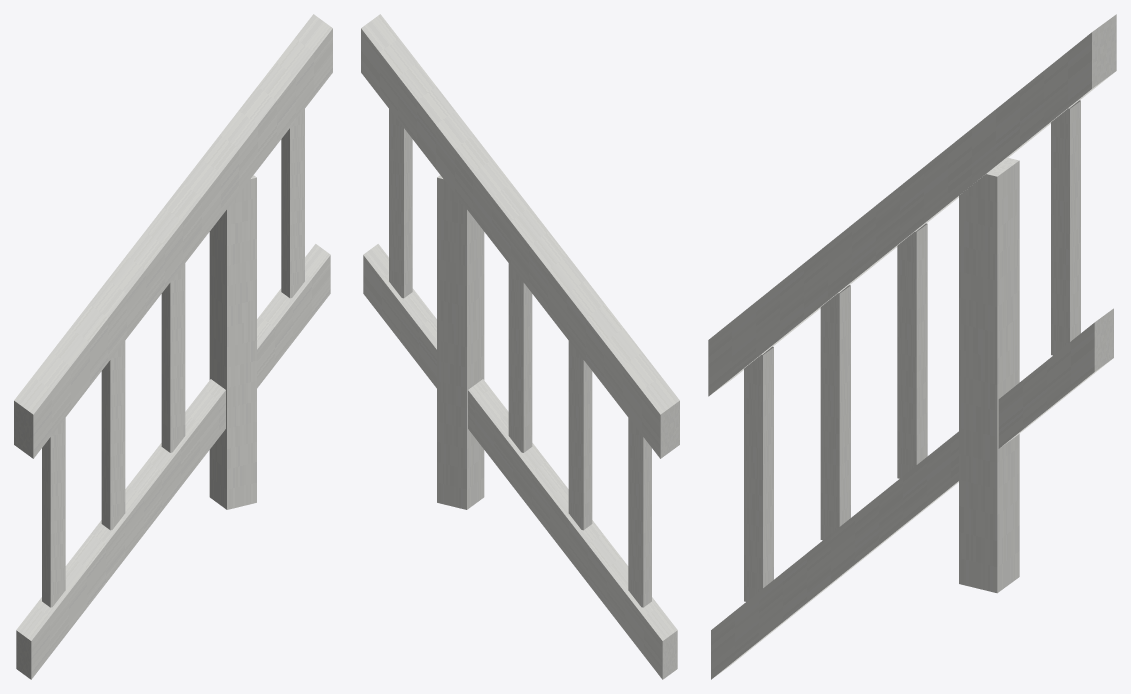
The model's file is mid_pos.obj.
3 renders of one model, left to right at view 1: azimuth 30°, elevation 25°; view 2: azimuth 150°, elevation 25°; view 3: azimuth 330°, elevation 25°, orthographic. The views are drawn at different scales.
Visible parts, largest first — view 1: railing_picket_white_mid_pos; view 2: railing_picket_white_mid_pos; view 3: railing_picket_white_mid_pos.
Part boxes in pixels (bbox=[...]): railing_picket_white_mid_pos: bbox=[14, 14, 332, 679]; railing_picket_white_mid_pos: bbox=[361, 14, 679, 679]; railing_picket_white_mid_pos: bbox=[708, 14, 1116, 679].
Bounding box in the file's own units: 1 × 1.85 × 0.1125.
